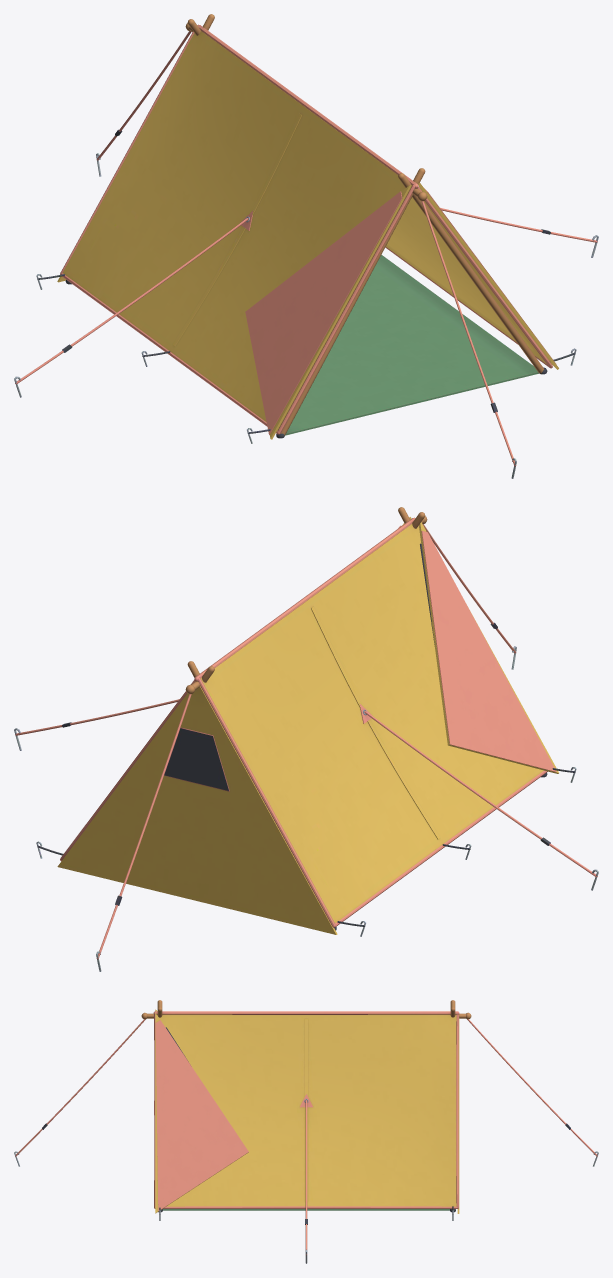
File: a_frame_tent.glb
3 views of the same model, one above another, from view 1: azimuth 30°, elevation 25°; view 2: azimuth 150°, elevation 25°; view 3: azimuth 270°, elevation 25° (orthographic). The views are drawn at different scales.
Visible parts, largest first — view 1: a-frame-tent_body, a-frame-tent_flap_l, a-frame-tent_flap_r; view 2: a-frame-tent_body, a-frame-tent_flap_l; view 3: a-frame-tent_body, a-frame-tent_flap_r.
Boxes of the visible parts, x1=… form: a-frame-tent_body: x1=14, y1=14, x2=598, y2=478; a-frame-tent_flap_l: x1=245, y1=185, x2=411, y2=439; a-frame-tent_flap_r: x1=418, y1=182, x2=558, y2=369; a-frame-tent_body: x1=14, y1=507, x2=598, y2=971; a-frame-tent_flap_l: x1=419, y1=522, x2=558, y2=773; a-frame-tent_body: x1=14, y1=1000, x2=598, y2=1263; a-frame-tent_flap_r: x1=155, y1=1013, x2=248, y2=1213.
Bounding box in the file's own units: 3.11 × 1.19 × 3.87.
Materials: 3 (3 with a texture image).
